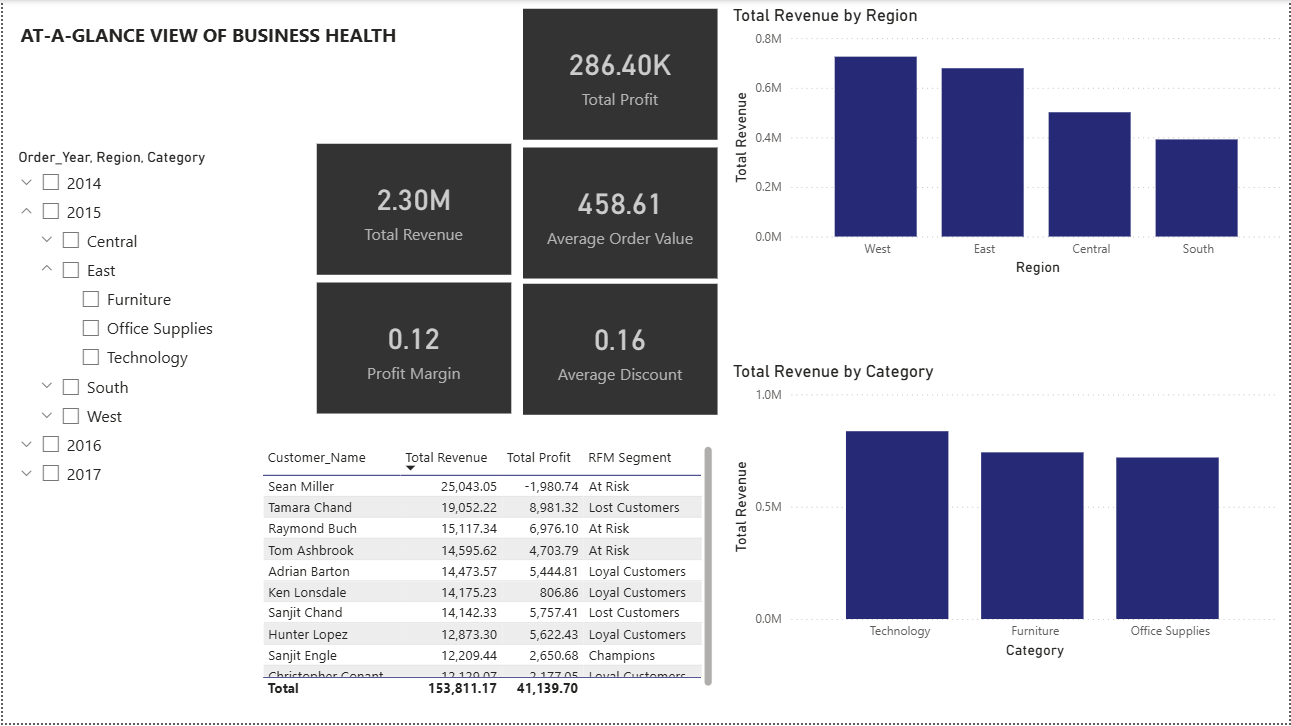

The dashboard page shown, as its layout file describes it:
{"tool":"powerbi","page":{"name":"Executive Summary","canvas":[1280,720],"ordinal":0},"visuals":[{"type":"textbox","box":[12.3,17.8,415.8,74.1],"z":0},{"type":"card","fields":{"Values":["superstore_orders.Total Revenue"]},"box":[312,143.5,193.5,130.4],"z":1000},{"type":"card","fields":{"Values":["superstore_orders.Total Profit"]},"box":[517.3,8.2,193.5,130.4],"z":2000},{"type":"card","fields":{"Values":["superstore_orders.Profit Margin"]},"box":[312.3,280.5,193.5,130.4],"z":3000},{"type":"card","fields":{"Values":["superstore_orders.Average Order Value"]},"box":[517.6,146.9,193.5,130.4],"z":4000},{"type":"card","fields":{"Values":["superstore_orders.Average Discount"]},"box":[517.3,282.7,193.5,130.4],"z":5000},{"type":"clusteredColumnChart","fields":{"Category":["superstore_orders.Region"],"Y":["superstore_orders.Total Revenue"]},"box":[721.8,5.5,558.5,274.4],"z":6000},{"type":"clusteredColumnChart","fields":{"Category":["superstore_orders.Category"],"Y":["superstore_orders.Total Revenue"]},"box":[721.8,359.5,553,300.5],"z":7000},{"type":"tableEx","fields":{"Values":["superstore_orders.Customer_Name","superstore_orders.Total Revenue","superstore_orders.Total Profit","superstore_orders.RFM Segment"]},"box":[252.8,439.3,458.9,260.1],"z":8000},{"type":"slicer","fields":{"Values":["superstore_orders.Order_Year","superstore_orders.Region","superstore_orders.Category"]},"box":[2.5,143.6,250.3,358.3],"z":9000}]}

Visuals, with their boxes in screenshot pixels (x1, y1, x2, y2), scaled from the page's 1280x720 canvas onto the 1291x726 screenshot:
textbox: <region>12, 18, 432, 93</region>
card - superstore_orders.Total Revenue: <region>315, 145, 510, 276</region>
card - superstore_orders.Total Profit: <region>522, 8, 717, 140</region>
card - superstore_orders.Profit Margin: <region>315, 283, 510, 414</region>
card - superstore_orders.Average Order Value: <region>522, 148, 717, 280</region>
card - superstore_orders.Average Discount: <region>522, 285, 717, 417</region>
clusteredColumnChart - superstore_orders.Region x superstore_orders.Total Revenue: <region>728, 6, 1290, 282</region>
clusteredColumnChart - superstore_orders.Category x superstore_orders.Total Revenue: <region>728, 362, 1286, 666</region>
tableEx - superstore_orders.Customer_Name x superstore_orders.Total Revenue: <region>255, 443, 718, 705</region>
slicer - superstore_orders.Order_Year x superstore_orders.Region: <region>3, 145, 255, 506</region>
